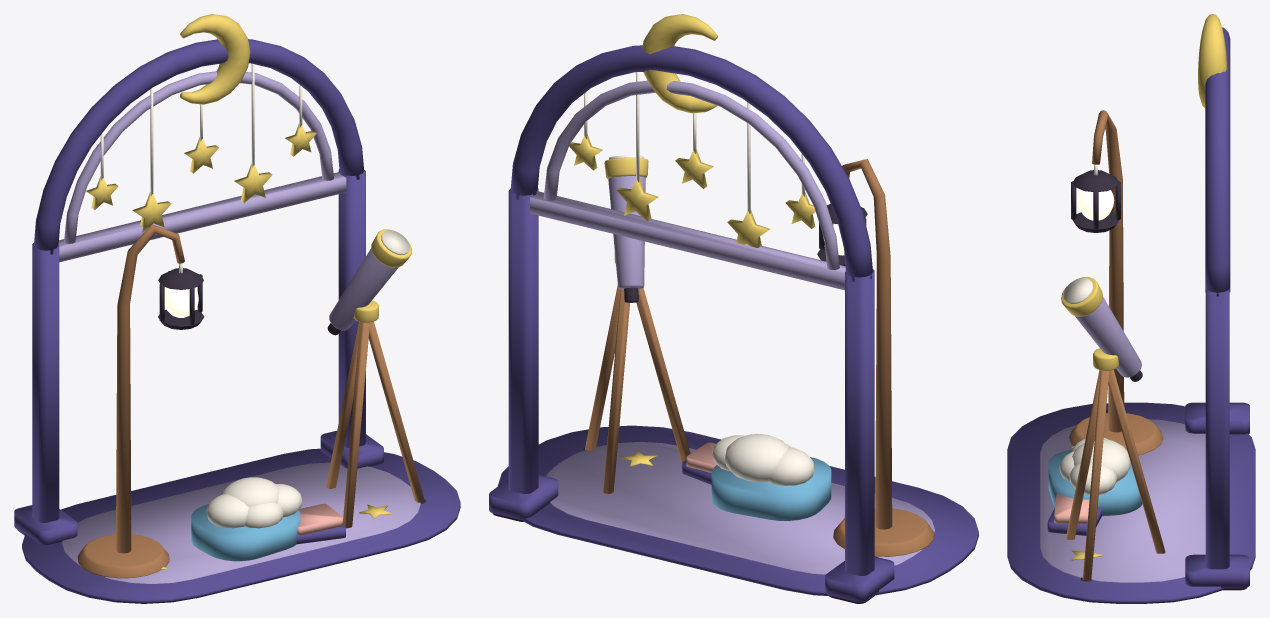
The model's file is night.glb.
3 renders of one model, left to right at view 1: azimuth 30°, elevation 25°; view 2: azimuth 150°, elevation 25°; view 3: azimuth 270°, elevation 25°, orthographic. The views are drawn at different scales.
Visible parts, largest first — view 1: ThemeNight_IndigoArchAndRug, ThemeNight_LavenderPillowsAndTube, ThemeNight_WoodStandAndTripod, ThemeNight_ButterMoonAndStars, ThemeNight_CreamCloudAndCords, ThemeNight_CeruleanCushion, ThemeNight_SlatePadsAndLantern, ThemeNight_PeachAtlasBook, ThemeNight_GlowLanternCore; view 2: ThemeNight_IndigoArchAndRug, ThemeNight_LavenderPillowsAndTube, ThemeNight_WoodStandAndTripod, ThemeNight_ButterMoonAndStars, ThemeNight_CreamCloudAndCords, ThemeNight_CeruleanCushion, ThemeNight_SlatePadsAndLantern; view 3: ThemeNight_IndigoArchAndRug, ThemeNight_LavenderPillowsAndTube, ThemeNight_WoodStandAndTripod, ThemeNight_ButterMoonAndStars, ThemeNight_CreamCloudAndCords, ThemeNight_CeruleanCushion, ThemeNight_SlatePadsAndLantern, ThemeNight_GlowLanternCore, ThemeNight_PeachAtlasBook.
Boxes of the visible parts, x1=… form: ThemeNight_IndigoArchAndRug: x1=14, y1=39, x2=460, y2=603; ThemeNight_LavenderPillowsAndTube: x1=58, y1=71, x2=420, y2=583; ThemeNight_WoodStandAndTripod: x1=77, y1=224, x2=424, y2=578; ThemeNight_ButterMoonAndStars: x1=86, y1=14, x2=411, y2=569; ThemeNight_CreamCloudAndCords: x1=100, y1=63, x2=409, y2=528; ThemeNight_CeruleanCushion: x1=191, y1=504, x2=300, y2=561; ThemeNight_SlatePadsAndLantern: x1=17, y1=268, x2=426, y2=535; ThemeNight_PeachAtlasBook: x1=297, y1=503, x2=342, y2=535; ThemeNight_GlowLanternCore: x1=164, y1=287, x2=198, y2=317; ThemeNight_IndigoArchAndRug: x1=489, y1=45, x2=978, y2=602; ThemeNight_LavenderPillowsAndTube: x1=530, y1=80, x2=934, y2=574; ThemeNight_WoodStandAndTripod: x1=585, y1=159, x2=934, y2=556; ThemeNight_ButterMoonAndStars: x1=569, y1=14, x2=815, y2=466; ThemeNight_CreamCloudAndCords: x1=584, y1=72, x2=814, y2=485; ThemeNight_CeruleanCushion: x1=711, y1=457, x2=831, y2=520; ThemeNight_SlatePadsAndLantern: x1=492, y1=204, x2=874, y2=603; ThemeNight_IndigoArchAndRug: x1=1007, y1=27, x2=1255, y2=603; ThemeNight_LavenderPillowsAndTube: x1=1040, y1=297, x2=1205, y2=582; ThemeNight_WoodStandAndTripod: x1=1066, y1=110, x2=1165, y2=580; ThemeNight_ButterMoonAndStars: x1=1061, y1=14, x2=1227, y2=560; ThemeNight_CreamCloudAndCords: x1=1059, y1=164, x2=1130, y2=495; ThemeNight_CeruleanCushion: x1=1048, y1=449, x2=1142, y2=516; ThemeNight_SlatePadsAndLantern: x1=1071, y1=170, x2=1247, y2=590; ThemeNight_GlowLanternCore: x1=1077, y1=190, x2=1114, y2=220; ThemeNight_PeachAtlasBook: x1=1054, y1=493, x2=1089, y2=524.
Size of the model in its own units: 1.84 by 2.13 by 0.98.
